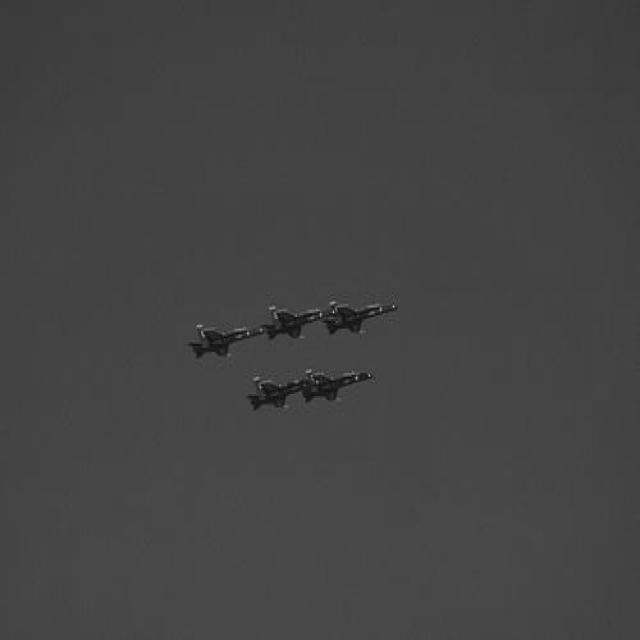aeroplane: (322, 298, 396, 336), (188, 322, 262, 360), (298, 368, 371, 406), (244, 376, 304, 414), (258, 306, 322, 340)
